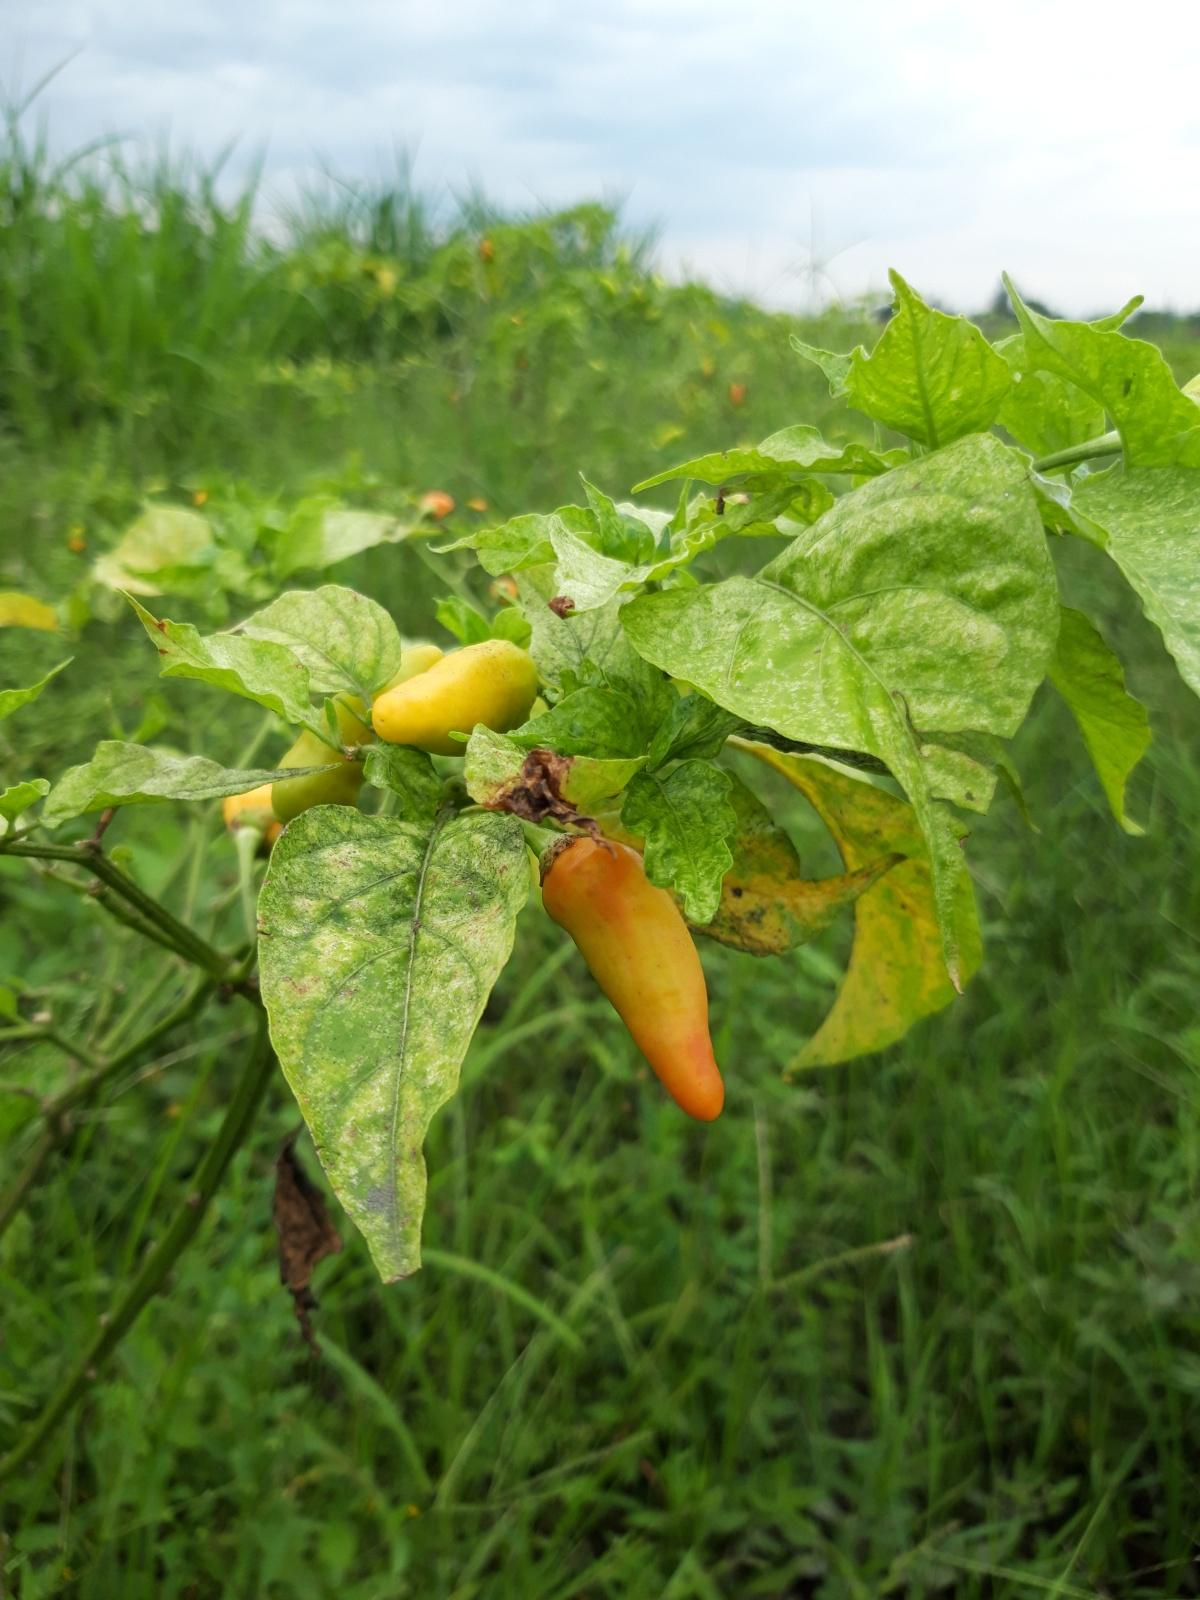cabai_normal: (539, 835, 724, 1123), (371, 640, 539, 757)
